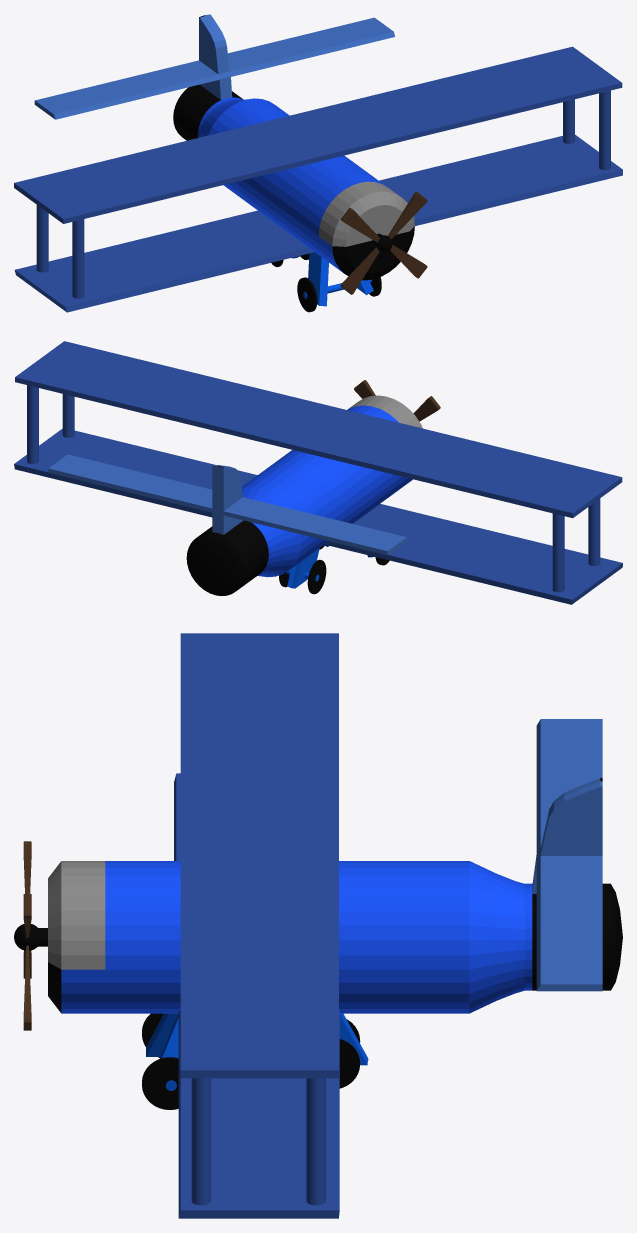
File: enemy_plane.glb
3 views of the same model, one above another, from view 1: azimuth 30°, elevation 25°; view 2: azimuth 150°, elevation 25°; view 3: azimuth 270°, elevation 25° (orthographic). The views are drawn at different scales.
Visible parts, largest first — view 1: wings, mainbody, back-flap, ffan, legs, wheels; view 2: wings, mainbody, back-flap, wheels, legs, ffan; view 3: wings, mainbody, back-flap, wheels, legs, ffan.
Boxes of the visible parts, left/top/right/bottom form: wings: left=14, top=46, right=622, bottom=312; mainbody: left=173, top=15, right=414, bottom=280; back-flap: left=34, top=14, right=394, bottom=119; ffan: left=340, top=191, right=427, bottom=294; legs: left=292, top=252, right=373, bottom=306; wheels: left=271, top=253, right=381, bottom=312; wings: left=14, top=341, right=622, bottom=604; mainbody: left=186, top=395, right=422, bottom=595; back-flap: left=48, top=454, right=408, bottom=555; wheels: left=279, top=545, right=389, bottom=594; legs: left=286, top=544, right=374, bottom=588; ffan: left=354, top=380, right=440, bottom=421; wings: left=174, top=633, right=339, bottom=1218; mainbody: left=37, top=778, right=622, bottom=1013; back-flap: left=532, top=719, right=602, bottom=991; wheels: left=142, top=1013, right=360, bottom=1109; legs: left=146, top=1013, right=368, bottom=1090; ffan: left=23, top=841, right=31, bottom=1030.
Bounding box in the file's own units: 54.12 × 17.46 × 31.84.
